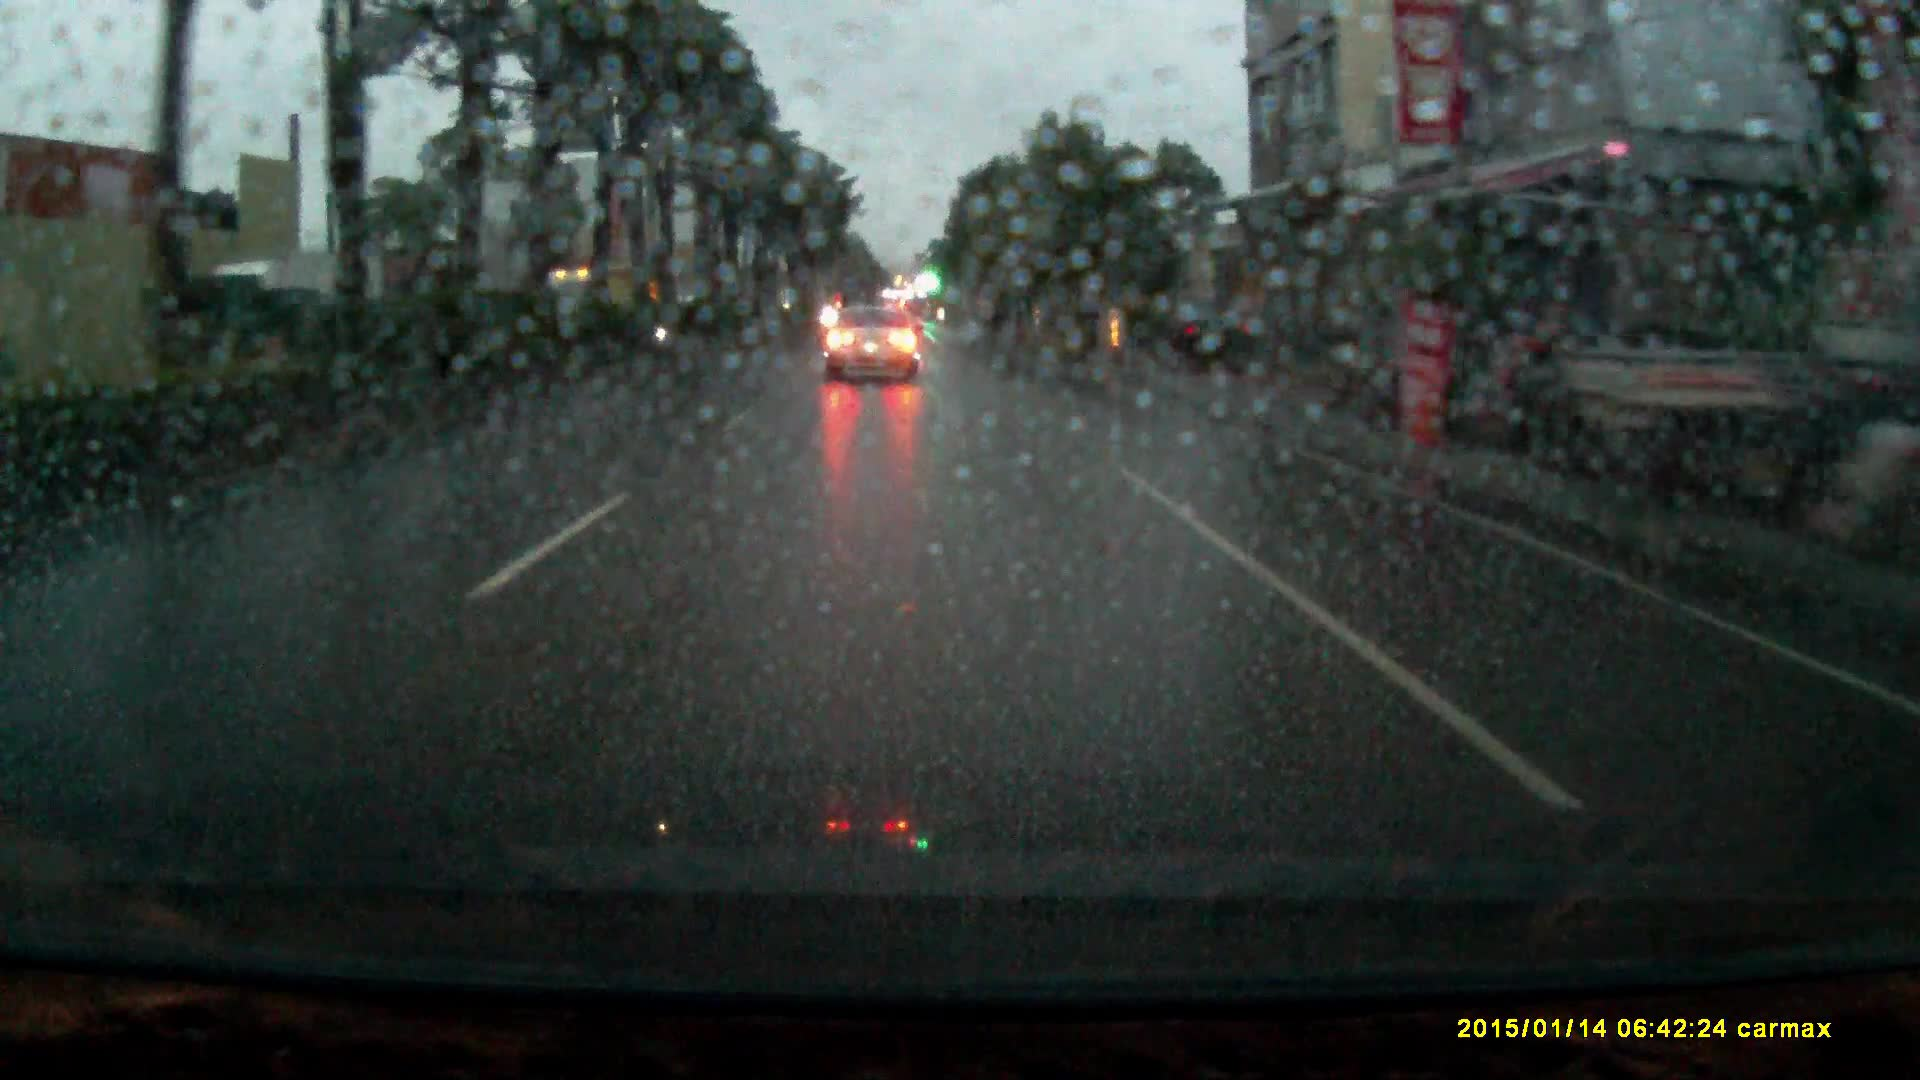vehicle: (191, 251, 389, 368), (824, 302, 924, 385), (1154, 302, 1255, 373), (539, 268, 640, 306)
